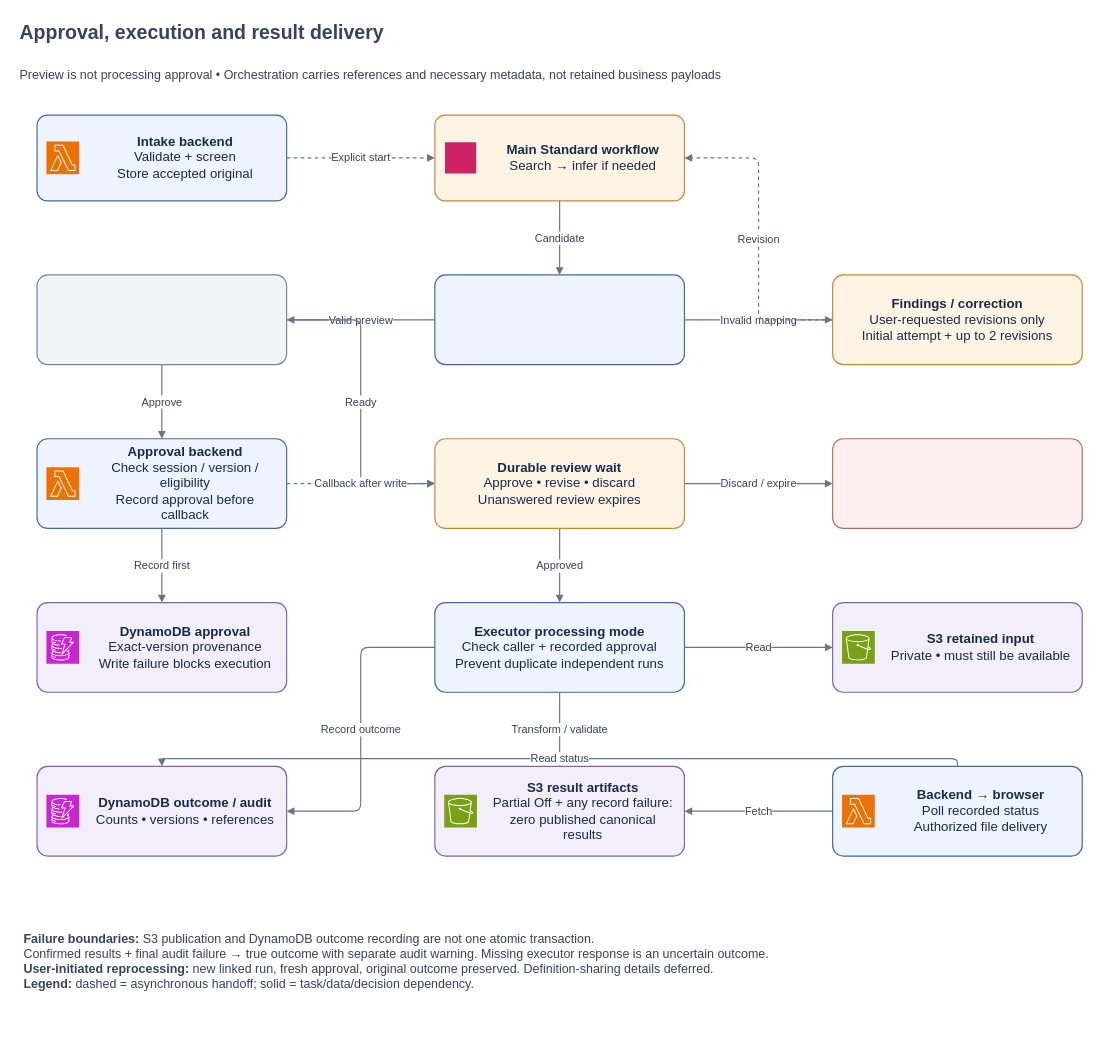
This 1119x1037 diagram has some shape labels left out. Here are the shapes that lost their labels. From the top down, the centre of each, then its label:
At (x=161, y=319): "Human review Rules + preview + exact version".
At (x=559, y=319): "Executor preview Validate definition + sample No published business results".
At (x=957, y=483): "End without transformation Discard / expiry / invalid approval".
